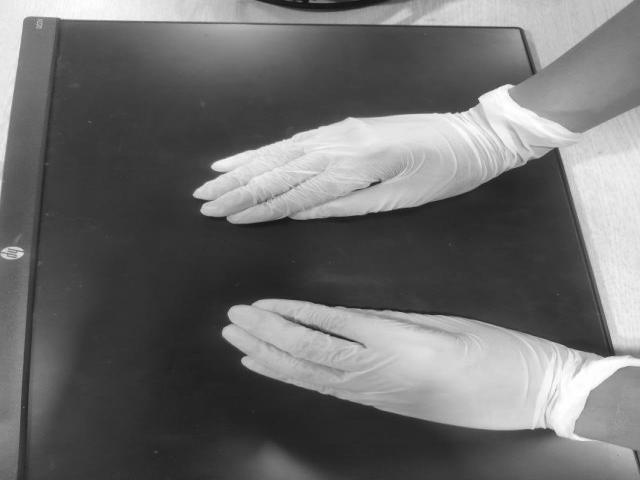gloved: (223, 294, 540, 432), (198, 111, 478, 223)
